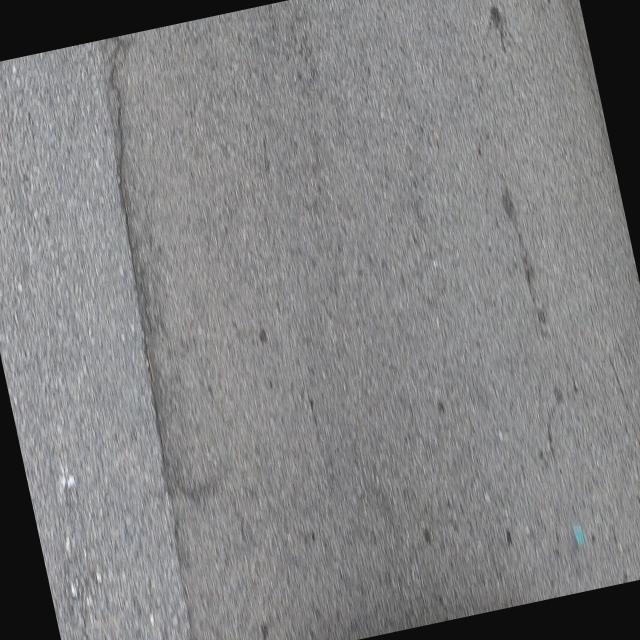Retak-Memanjang: (104, 36, 201, 640)
